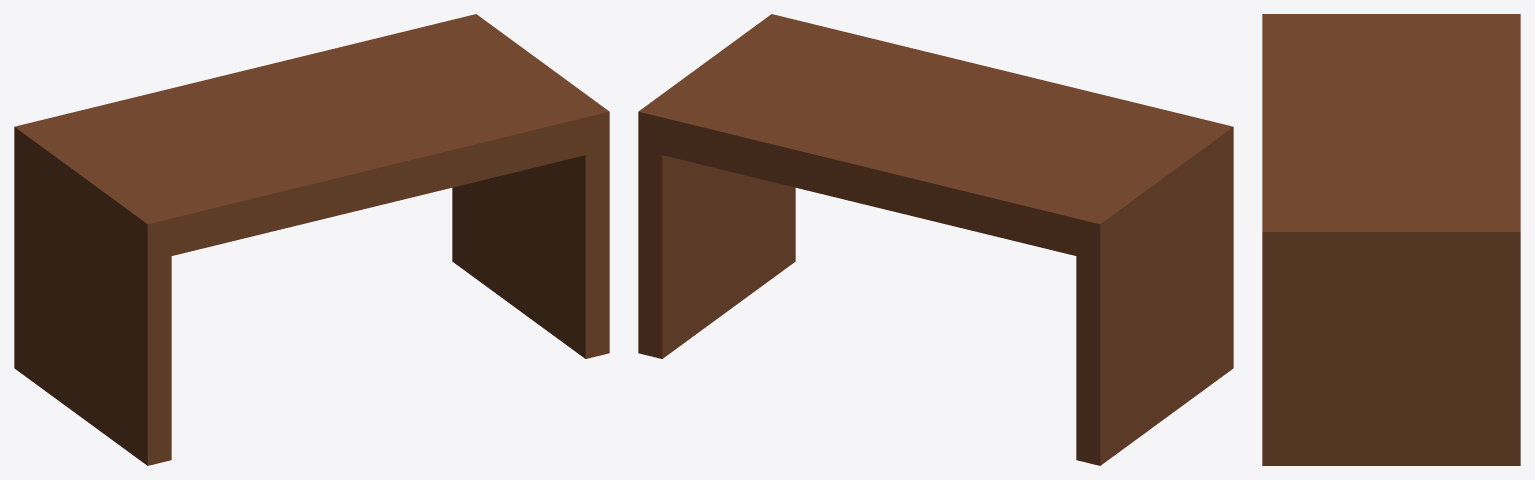
Rendered from großerTisch.fbx.
The picture shows the model from 3 angles, left to right: view 1: azimuth 30°, elevation 25°; view 2: azimuth 150°, elevation 25°; view 3: azimuth 270°, elevation 25°; orthographic projection. The views are drawn at different scales.
Visible parts, largest first — view 1: Cube; view 2: Cube; view 3: Cube.
Part boxes in pixels (x1,y1,x2,y2): Cube: (14, 14, 609, 465); Cube: (638, 14, 1233, 465); Cube: (1262, 14, 1520, 465).
Bounding box in the file's own units: 200 × 100 × 100.
